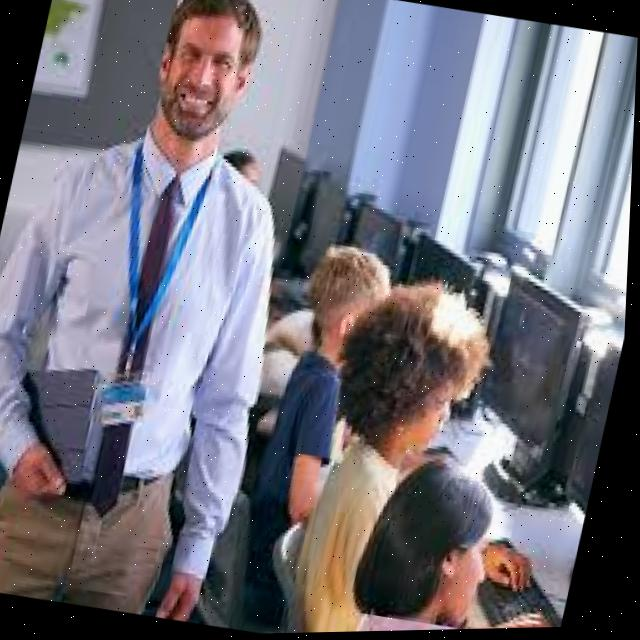id_card: (70, 141, 226, 444)
